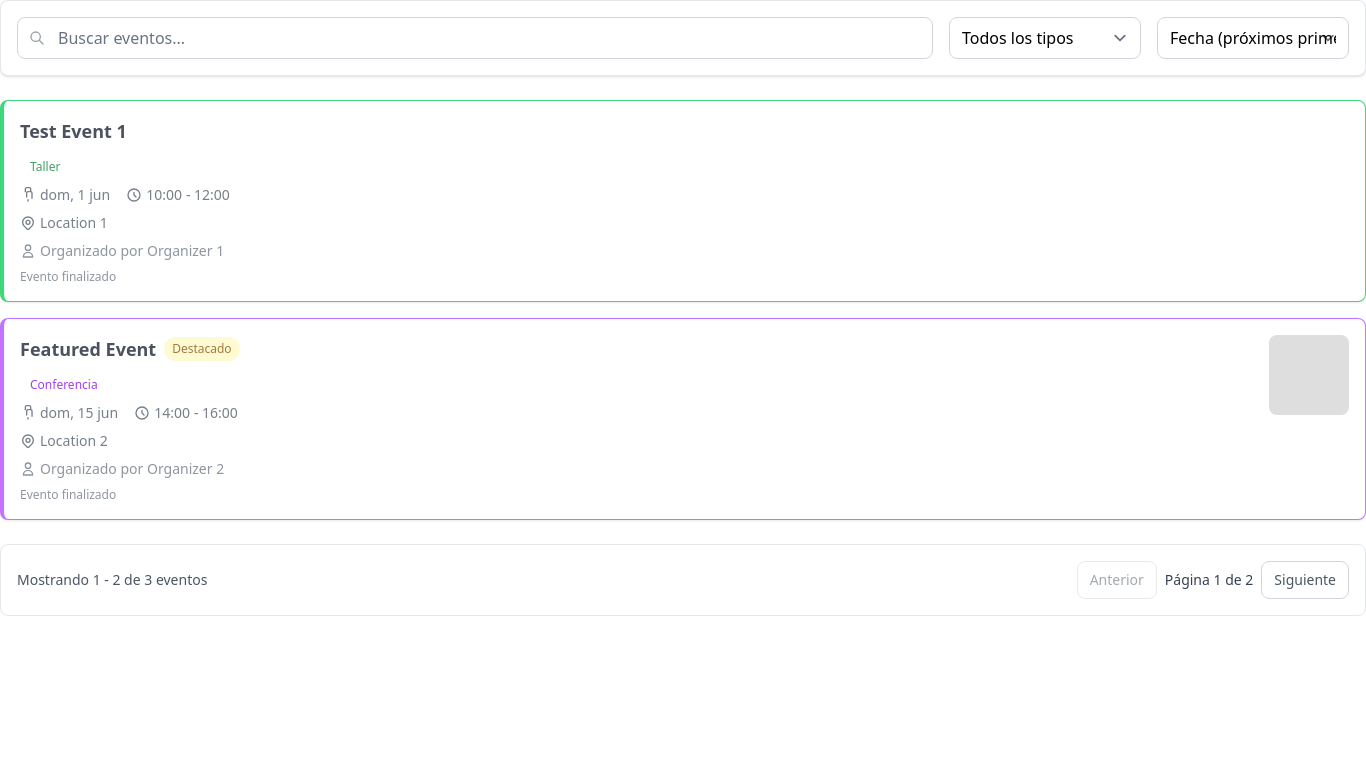
Test case: EventList › Edge Cases › should reset to page 1 when filters change
Note: Go to page 2
Click the button "Siguiente" at (1305, 580), box 1261,561 -> 1349,599
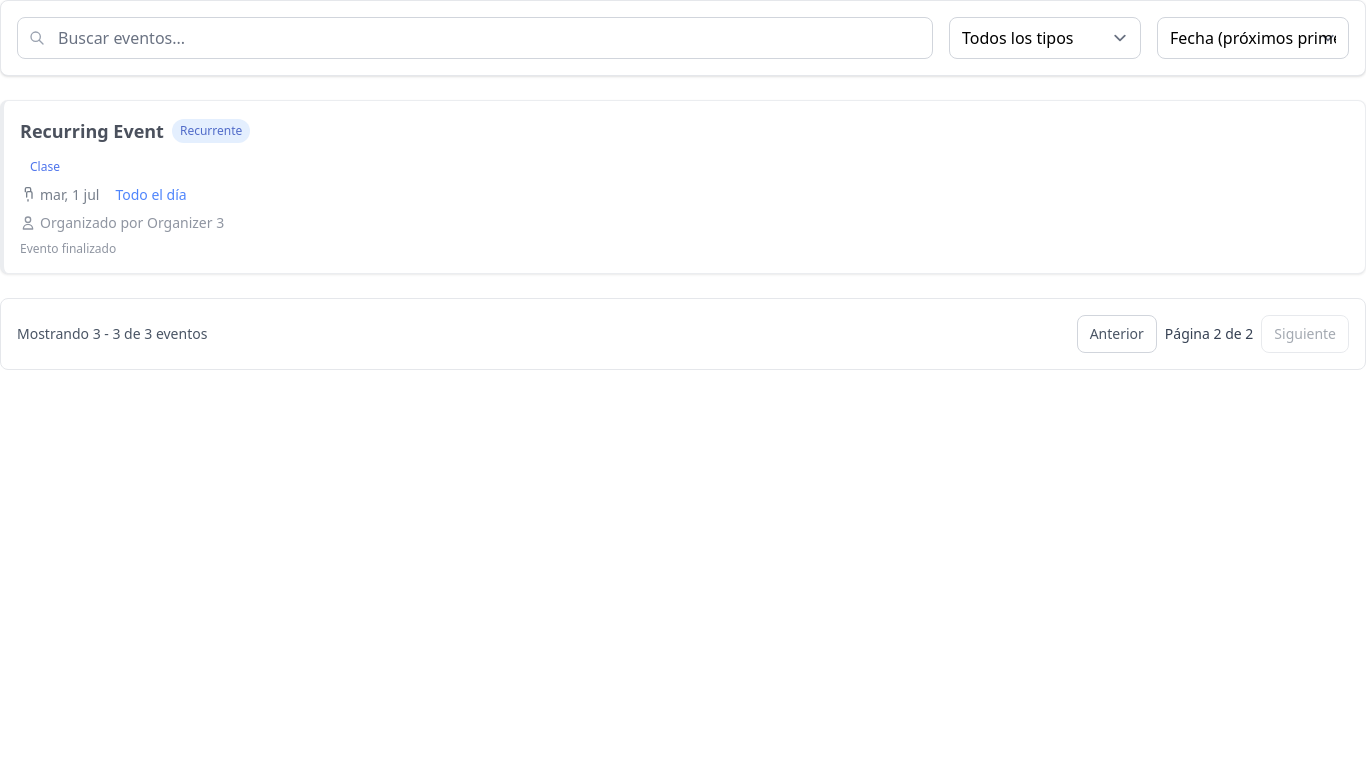
Expected: the text with test id "pagination-info" shows "Página 2 de", 1165,324 -> 1253,343
Note: Change search filter
Type "Test" into the field with placeholder "Buscar eventos..." at (475, 38), box 17,17 -> 933,59
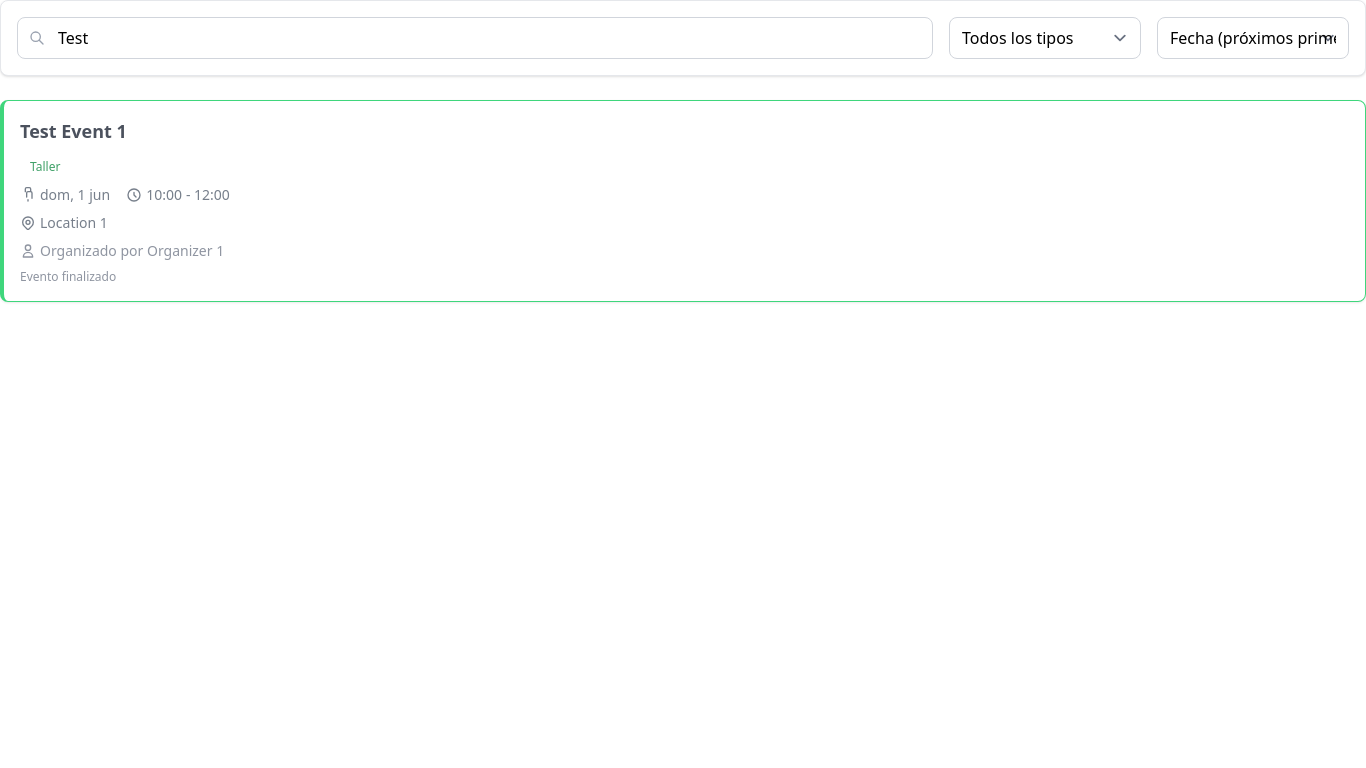
Expected: the text "Página 2" is gone
